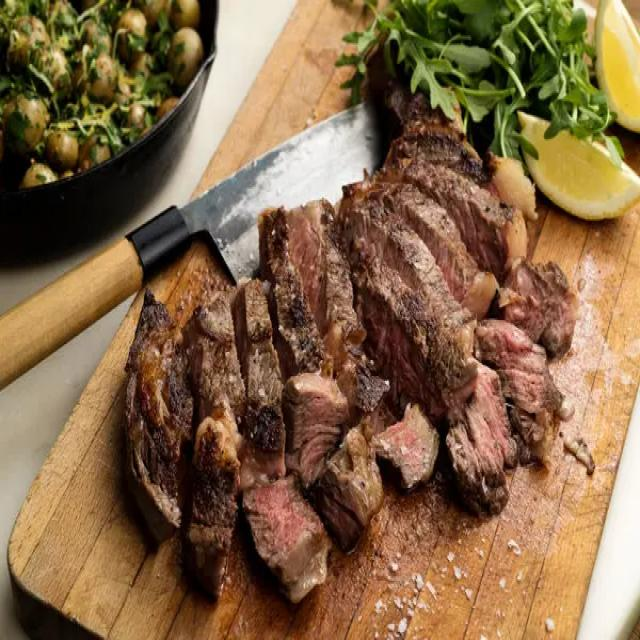Carne: (120, 77, 584, 605)
